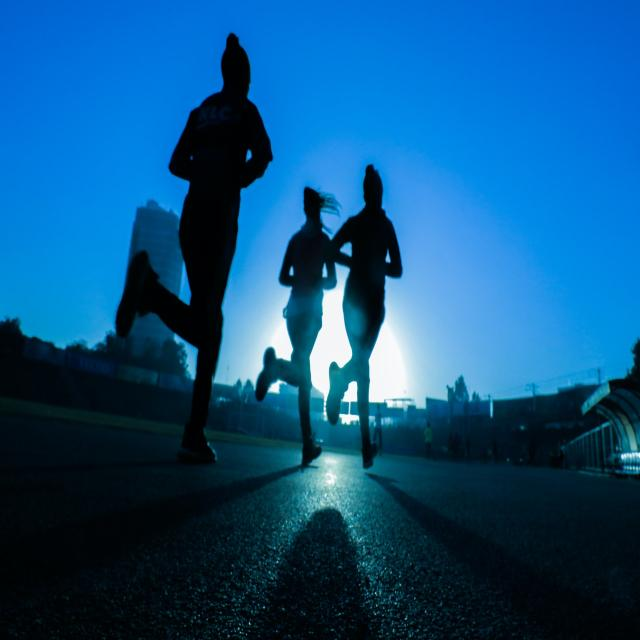Person: (115, 32, 273, 464), (326, 166, 403, 468), (257, 188, 336, 464)
